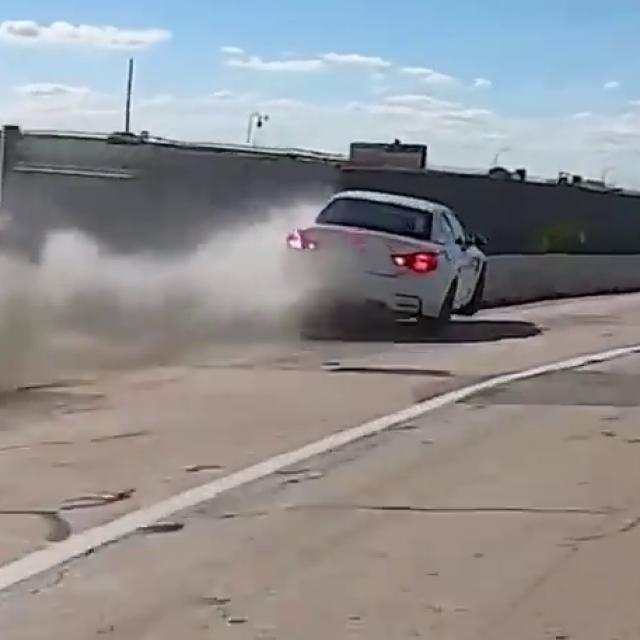accident: (260, 168, 508, 338)
